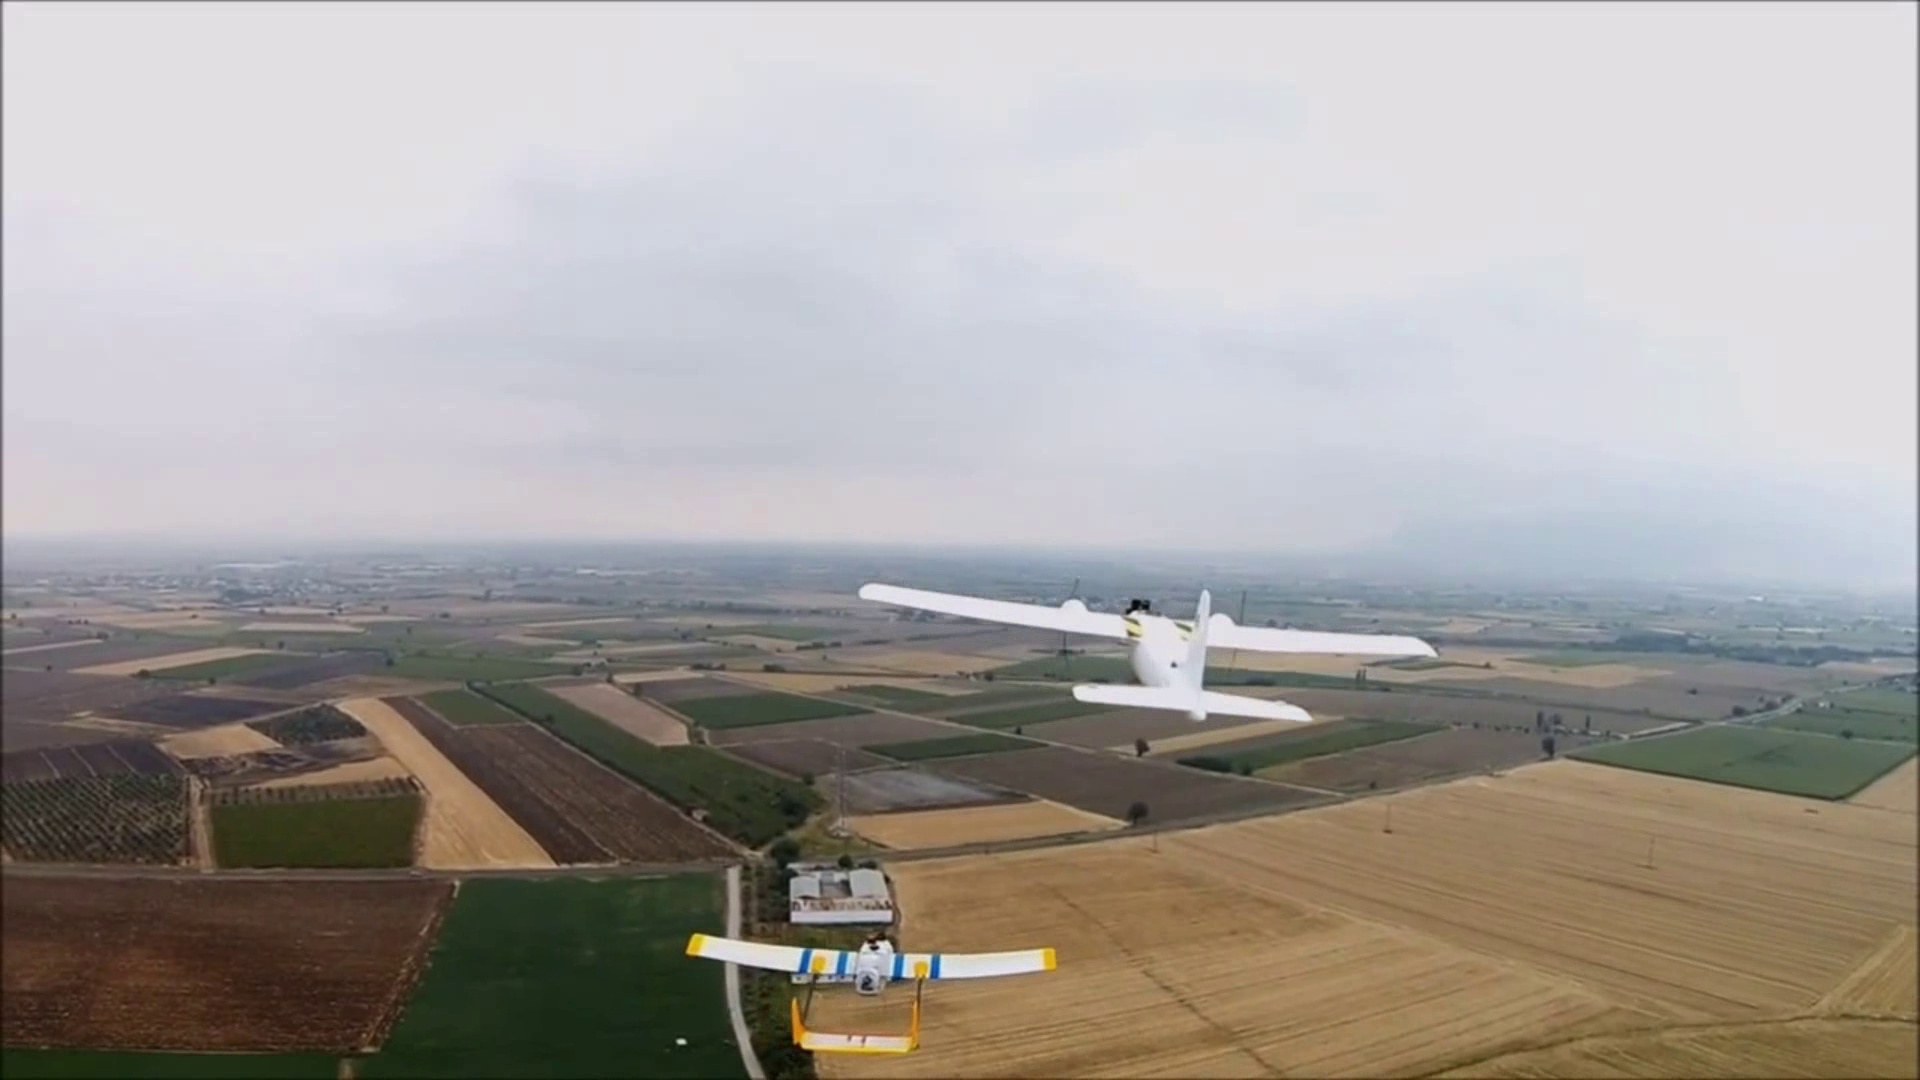airplane: (858, 574, 1439, 727)
